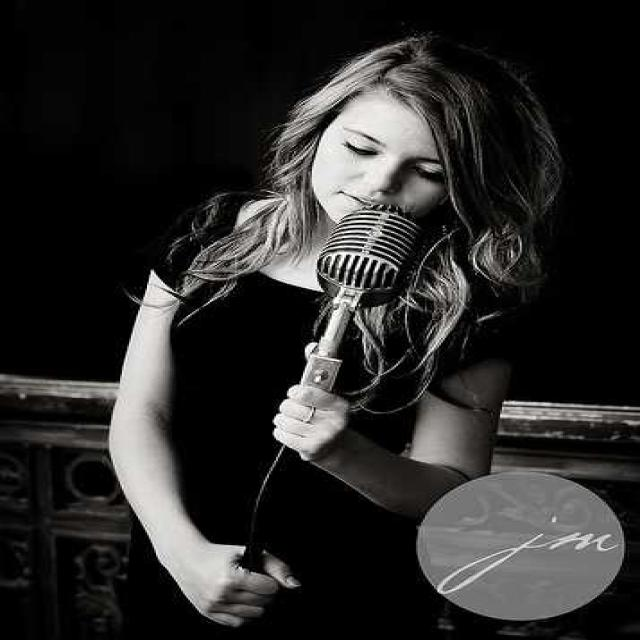microphone: (296, 202, 425, 409)
